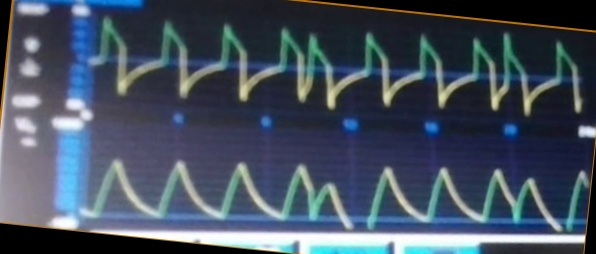Double_Triggering Flow: (104, 19, 554, 118)
Double_Triggering Volume: (110, 146, 586, 229)
